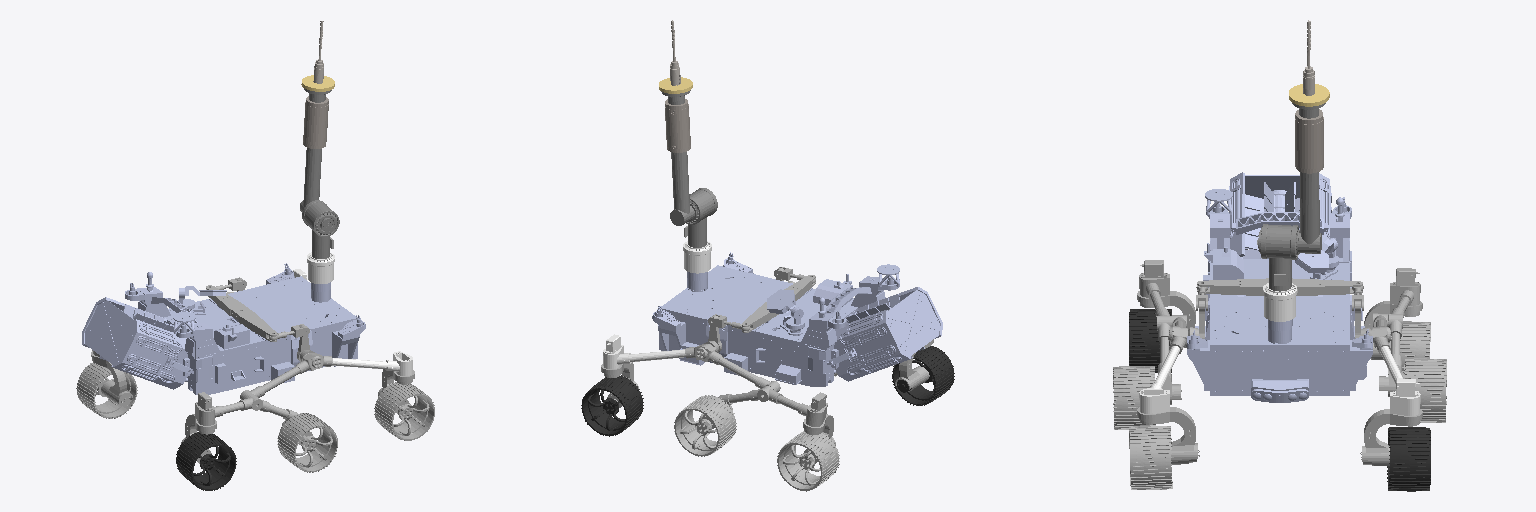
--- What the picture shows (computed from the rendered views, not written in the file) ---
Views: 3 orthographic renders of the robot side by side, from view 1: azimuth 30°, elevation 25°; view 2: azimuth 150°, elevation 25°; view 3: azimuth 270°, elevation 25°.
Model mars_rover_v8 with 40 links and 39 joints (10 revolute, 8 continuous, 1 prismatic, 20 fixed), rooted at dummy_link, posed every joint at zero.
Visible links, largest first — view 1: Rover_body, Right_front_wheel, Rear_middle_wheel, Right_rear_wheel, Left_rear_wheel, Arm_link1, Rocker_bogie, Arm_link3, RBR_rear, RBR_front_link, Arm_link2, Left_rear_wheel_shaft (+1 smaller); view 2: Rover_body, Left_middle_wheel, Front_left_wheel, Left_rear_wheel, Right_rear_wheel, Arm_link2, Arm_link1, Arm_link3, RBL_rear, Left_front_link, Rocker_bogie, Arm_base2 (+2 smaller); view 3: Rover_body, Front_left_wheel, Right_front_wheel, Rocker_bogie, Left_middle_wheel, Rear_middle_wheel, Arm_link1, Right_rear_wheel, Arm_link2, Arm_link3, RBR_rear, RBL_rear (+9 smaller).
Link boxes in pixels (left/top/right/bottom): Rover_body: left=82, top=263, right=365, bottom=394; Right_front_wheel: left=374, top=382, right=434, bottom=440; Rear_middle_wheel: left=277, top=413, right=337, bottom=472; Right_rear_wheel: left=176, top=432, right=236, bottom=490; Left_rear_wheel: left=76, top=362, right=137, bottom=418; Arm_link1: left=302, top=200, right=339, bottom=258; Rocker_bogie: left=206, top=284, right=294, bottom=341; Arm_link3: left=303, top=96, right=328, bottom=148; RBR_rear: left=195, top=392, right=312, bottom=444; RBR_front_link: left=332, top=351, right=412, bottom=375; Arm_link2: left=300, top=148, right=321, bottom=212; Left_rear_wheel_shaft: left=91, top=351, right=132, bottom=406; Rover_body: left=652, top=252, right=942, bottom=386; Left_middle_wheel: left=674, top=395, right=736, bottom=456; Front_left_wheel: left=581, top=375, right=643, bottom=436; Left_rear_wheel: left=777, top=431, right=839, bottom=491; Right_rear_wheel: left=892, top=346, right=954, bottom=405; Arm_link2: left=670, top=152, right=694, bottom=225; Arm_link1: left=686, top=188, right=717, bottom=247; Arm_link3: left=665, top=99, right=690, bottom=152; RBL_rear: left=702, top=392, right=827, bottom=428; Left_front_link: left=603, top=334, right=690, bottom=368; Rocker_bogie: left=724, top=274, right=815, bottom=332; Arm_base2: left=683, top=241, right=711, bottom=273; Rover_body: left=1187, top=172, right=1372, bottom=402; Front_left_wheel: left=1387, top=427, right=1430, bottom=491; Right_front_wheel: left=1129, top=426, right=1172, bottom=489; Rocker_bogie: left=1196, top=278, right=1363, bottom=295; Left_middle_wheel: left=1404, top=358, right=1446, bottom=422; Rear_middle_wheel: left=1113, top=366, right=1155, bottom=429; Arm_link1: left=1257, top=224, right=1299, bottom=291; Right_rear_wheel: left=1129, top=309, right=1171, bottom=372; Arm_link2: left=1298, top=172, right=1321, bottom=253; Arm_link3: left=1295, top=109, right=1323, bottom=173; RBR_rear: left=1139, top=260, right=1181, bottom=404; RBL_rear: left=1379, top=268, right=1420, bottom=396.
Bounding box of the posed robot: 0.8124 × 0.6922 × 1.06 m (x, y, z).
38 mesh visuals loaded from 38 distinct referenced files (38 binary STL).

robot.urdf — mars_rover_v8:
<?xml version="1.0" encoding="utf-8"?>
<!-- This URDF was automatically created by SolidWorks to URDF Exporter! Originally created by Stephen Brawner ([email redacted]) 
     Commit Version: 1.6.0-4-g7f85cfe  Build Version: 1.6.7995.38578
     For more information, please see http://wiki.ros.org/sw_urdf_exporter -->
<robot
  name="mars_rover_v8">
  <link
    name="dummy_link">
  </link>
    <joint name="dummy_joint" type="fixed">
      <parent link="dummy_link"/>
      <child link="Rover_body"/>
      <origin xyz="0 0 0" rpy="0 0 0" />
      <axis
      xyz="0 0 0" />
    </joint>
    
  <link
    name="Rover_body">
    <inertial>
      <origin
        xyz="0 0 -0.90"
        rpy="0 0 0" />
      <mass
        value="5.05463116322645" />
      <inertia
        ixx="0.00919072374274727"
        ixy="9.21619169351263E-06"
        ixz="0.000742948997031083"
        iyy="0.0124092523200571"
        iyz="6.063504394883E-05"
        izz="0.0118258433412729" />
    </inertial>
    <visual>
      <origin
        xyz="0 0 0"
        rpy="0 0 0" />
      <geometry>
        <mesh
          filename="package://mars_rover_v8/meshes/Rover_body.STL" />
      </geometry>
      <material
        name="">
        <color
          rgba="0.792156862745098 0.819607843137255 0.933333333333333 1" />
      </material>
    </visual>
    <collision>
      <origin
        xyz="0 0 0"
        rpy="0 0 0" />
      <geometry>
        <mesh
          filename="package://mars_rover_v8/meshes/Rover_body.STL" />
      </geometry>
    </collision>
  </link>
  <link
    name="Rocker_bogie">
    <inertial>
      <origin
        xyz="-0.00183062327350716 -7.69444459586266E-06 -0.00980214891887629"
        rpy="0 0 0" />
      <mass
        value="0.222835377250285" />
      <inertia
        ixx="0.000360928093195999"
        ixy="-1.12175361239904E-08"
        ixz="-1.21543020229572E-08"
        iyy="3.37038043417026E-05"
        iyz="5.2718041267806E-09"
        izz="0.000380480874024538" />
    </inertial>
    <visual>
      <origin
        xyz="0 0 0"
        rpy="0 0 0" />
      <geometry>
        <mesh
          filename="package://mars_rover_v8/meshes/Rocker_bogie.STL" />
      </geometry>
      <material
        name="">
        <color
          rgba="0.752941176470588 0.752941176470588 0.752941176470588 1" />
      </material>
    </visual>
    <collision>
      <origin
        xyz="0 0 0"
        rpy="0 0 0" />
      <geometry>
        <mesh
          filename="package://mars_rover_v8/meshes/Rocker_bogie.STL" />
      </geometry>
    </collision>
  </link>
  <joint
    name="Rocker_bogie_joint"
    type="fixed">
    <origin
      xyz="0 0 0.321745694454397"
      rpy="0 0 3.13719265835774" />
    <parent
      link="Rover_body" />
    <child
      link="Rocker_bogie" />
    <axis
      xyz="-0.00421056605326748 -0.0042462882407935 -0.999982119924995" />
    <limit
      lower="0"
      upper="0"
      effort="0"
      velocity="0" />
  </joint>
  <link
    name="RBL_connector">
    <inertial>
      <origin
        xyz="0.00273012533204613 0.051254859123566 -8.18345316958569E-05"
        rpy="0 0 0" />
      <mass
        value="0.070232461995793" />
      <inertia
        ixx="4.3726135656864E-05"
        ixy="-1.80770334367043E-07"
        ixz="7.29077461067858E-08"
        iyy="2.25741236050298E-05"
        iyz="7.41315304509806E-06"
        izz="3.25567515859379E-05" />
    </inertial>
    <visual>
      <origin
        xyz="0 0 0"
        rpy="0 0 0" />
      <geometry>
        <mesh
          filename="package://mars_rover_v8/meshes/RBL_connector.STL" />
      </geometry>
      <material
        name="">
        <color
          rgba="0.752941176470588 0.752941176470588 0.752941176470588 1" />
      </material>
    </visual>
    <collision>
      <origin
        xyz="0 0 0"
        rpy="0 0 0" />
      <geometry>
        <mesh
          filename="package://mars_rover_v8/meshes/RBL_connector.STL" />
      </geometry>
    </collision>
  </link>
  <joint
    name="RBL_connector_joint"
    type="fixed">
    <origin
      xyz="-0.0899648316067737 -0.173480451030132 -0.0104717645625004"
      rpy="-1.5707963267949 0 0.00422849637243022" />
    <parent
      link="Rocker_bogie" />
    <child
      link="RBL_connector" />
    <axis
      xyz="0 0 0" />
    <limit
      lower="0"
      upper="0"
      effort="0"
      velocity="0" />
    <dynamics damping="0.0" friction="0.0"/>

  </joint>
  <link
    name="Main_RBL_shaft">
    <inertial>
      <origin
        xyz="0.0078042426420091 0.00361719524194832 -0.0178113948108033"
        rpy="0 0 0" />
      <mass
        value="0.0491872656663331" />
      <inertia
        ixx="1.29488130430966E-05"
        ixy="3.61515022785671E-06"
        ixz="-5.30362861188594E-06"
        iyy="2.524162119039E-05"
        iyz="1.78408297953142E-06"
        izz="2.49334638894304E-05" />
    </inertial>
    <visual>
      <origin
        xyz="0 0 0"
        rpy="0 0 0" />
      <geometry>
        <mesh
          filename="package://mars_rover_v8/meshes/Main_RBL_shaft.STL" />
      </geometry>
      <material
        name="">
        <color
          rgba="0.752941176470588 0.752941176470588 0.752941176470588 1" />
      </material>
    </visual>
    <collision>
      <origin
        xyz="0 0 0"
        rpy="0 0 0" />
      <geometry>
        <mesh
          filename="package://mars_rover_v8/meshes/Main_RBL_shaft.STL" />
      </geometry>
    </collision>
  </link>
  <joint
    name="Main_RBL_shaft_joint"
    type="revolute">
    <origin
      xyz="0.000631495837738971 0.06427021565357 -0.0564721133745778"
      rpy="-2.98277640343485 -0.284969295585532 2.83906445659194" />
    <parent
      link="RBL_connector" />
    <child
      link="Main_RBL_shaft" />
    <axis
      xyz="0.331170055115093 0.0444834262870377 -0.942521946365617" />
    <limit
      lower="-0.5"
      upper="0.5"
      effort="10"
      velocity="100" />
    <dynamics damping="1.0" friction="1.0"/>

  </joint>
  <link
    name="RBL_middle">
    <inertial>
      <origin
        xyz="-0.125359927941052 0.0848748247362183 -0.0734828208580134"
        rpy="0 0 0" />
      <mass
        value="0.033279888024897" />
      <inertia
        ixx="1.30948542082596E-05"
        ixy="9.76134365773125E-06"
        ixz="-6.29292322879668E-06"
        iyy="2.20361929304674E-05"
        iyz="4.03565033308475E-06"
        izz="2.61402496675802E-05" />
    </inertial>
    <visual>
      <origin
        xyz="0 0 0"
        rpy="0 0 0" />
      <geometry>
        <mesh
          filename="package://mars_rover_v8/meshes/RBL_middle.STL" />
      </geometry>
      <material
        name="">
        <color
          rgba="0.752941176470588 0.752941176470588 0.752941176470588 1" />
      </material>
    </visual>
    <collision>
      <origin
        xyz="0 0 0"
        rpy="0 0 0" />
      <geometry>
        <mesh
          filename="package://mars_rover_v8/meshes/RBL_middle.STL" />
      </geometry>
    </collision>
  </link>
  <joint
    name="RBL_middle_joint"
    type="fixed">
    <origin
      xyz="0 0 0"
      rpy="0 0 0" />
    <parent
      link="Main_RBL_shaft" />
    <child
      link="RBL_middle" />
    <axis
      xyz="0 0 0" />
  </joint>
  <link
    name="RBL_sub">
    <inertial>
      <origin
        xyz="0.000829595906266911 0.00229485076186861 -0.0146534396629263"
        rpy="0 0 0" />
      <mass
        value="0.0384144996450757" />
      <inertia
        ixx="5.75044699429699E-06"
        ixy="3.1860938525737E-07"
        ixz="-7.31290112807747E-07"
        iyy="1.61734907438067E-05"
        iyz="-3.55938893525851E-08"
        izz="1.63701204434969E-05" />
    </inertial>
    <visual>
      <origin
        xyz="0 0 0"
        rpy="0 0 0" />
      <geometry>
        <mesh
          filename="package://mars_rover_v8/meshes/RBL_sub.STL" />
      </geometry>
      <material
        name="">
        <color
          rgba="0.752941176470588 0.752941176470588 0.752941176470588 1" />
      </material>
    </visual>
    <collision>
      <origin
        xyz="0 0 0"
        rpy="0 0 0" />
      <geometry>
        <mesh
          filename="package://mars_rover_v8/meshes/RBL_sub.STL" />
      </geometry>
    </collision>
  </link>
  <joint
    name="RBL_sub_joint"
    type="revolute">
    <origin
      xyz="-0.165228843532702 0.110053086792123 -0.0403563616500445"
      rpy="-0.141384243529562 -0.19020881267445 -0.0998429541958625" />
    <parent
      link="RBL_middle" />
    <child
      link="RBL_sub" />
    <axis
      xyz="0.107516177735359 0 -0.994203335100611" />
    <limit
      lower="-0.5"
      upper="0.5"
      effort="10"
      velocity="100" />
    <dynamics damping="1.0" friction="1.0"/>
  </joint>
  <link
    name="RBL_rear">
    <inertial>
      <origin
        xyz="-0.0345314743918841 0.0342554022657289 -0.00245860386260088"
        rpy="0 0 0" />
      <mass
        value="0.172119977743607" />
      <inertia
        ixx="8.94538481514293E-05"
        ixy="-4.65295237181543E-06"
        ixz="-2.96847292194131E-06"
        iyy="9.87966505115758E-05"
        iyz="-9.92270152291458E-06"
        izz="7.89446484933328E-05" />
    </inertial>
    <visual>
      <origin
        xyz="0 0 0"
        rpy="0 0 0" />
      <geometry>
        <mesh
          filename="package://mars_rover_v8/meshes/RBL_rear.STL" />
      </geometry>
      <material
        name="">
        <color
          rgba="0.752941176470588 0.752941176470588 0.752941176470588 1" />
      </material>
    </visual>
    <collision>
      <origin
        xyz="0 0 0"
        rpy="0 0 0" />
      <geometry>
        <mesh
          filename="package://mars_rover_v8/meshes/RBL_rear.STL" />
      </geometry>
    </collision>
  </link>
  <joint
    name="RBL_rear_joint"
    type="fixed">
    <origin
      xyz="0 0 0"
      rpy="0 0 0" />
    <parent
      link="RBL_sub" />
    <child
      link="RBL_rear" />
    <axis
      xyz="0 0 0" />
  </joint>
  <link
    name="Left_rear_wheel_shaft">
    <inertial>
      <origin
        xyz="0.0437952760701534 0.00512357289175613 0.0446637087872099"
        rpy="0 0 0" />
      <mass
        value="0.232916021206215" />
      <inertia
        ixx="7.11736613895528E-05"
        ixy="-1.39358357582043E-05"
        ixz="5.68457382014426E-06"
        iyy="0.000197577237836181"
        iyz="-1.57927192737246E-06"
        izz="0.00017873090091453" />
    </inertial>
    <visual>
      <origin
        xyz="0 0 0"
        rpy="0 0 0" />
      <geometry>
        <mesh
          filename="package://mars_rover_v8/meshes/Left_rear_wheel_shaft.STL" />
      </geometry>
      <material
        name="">
        <color
          rgba="0.752941176470588 0.752941176470588 0.752941176470588 1" />
      </material>
    </visual>
    <collision>
      <origin
        xyz="0 0 0"
        rpy="0 0 0" />
      <geometry>
        <mesh
          filename="package://mars_rover_v8/meshes/Left_rear_wheel_shaft.STL" />
      </geometry>
    </collision>
  </link>
  <joint
    name="Left_rear_wheel_shaft_joint"
    type="revolute">
    <origin
      xyz="-0.112959679328628 0.160160817370863 0.00243708982821339"
      rpy="-2.85755335150211 1.53424034262611 1.52440909514195" />
    <parent
      link="RBL_rear" />
    <child
      link="Left_rear_wheel_shaft" />
    <axis
      xyz="-0.00154474032954976 0.000395300951298722 0.999998728756428" />
    <limit
      lower="-3.14"
      upper="3.14"
      effort="10"
      velocity="100" />
    <dynamics damping="1.0" friction="1.0"/>
  </joint>
  <link
    name="Left_rear_wheel_link">
    <inertial>
      <origin
        xyz="-0.00584958116844816 0.000388674749067369 -0.0129205752485559"
        rpy="0 0 0" />
      <mass
        value="0.0072539802205253" />
      <inertia
        ixx="5.90602559393169E-07"
        ixy="-2.10411835375521E-09"
        ixz="1.34162351668438E-07"
        iyy="5.59694857906414E-07"
        iyz="1.94505089294954E-09"
        izz="8.28822298314107E-07" />
    </inertial>
    <visual>
      <origin
        xyz="0 0 0"
        rpy="0 0 0" />
      <geometry>
        <mesh
          filename="package://mars_rover_v8/meshes/Left_rear_wheel_link.STL" />
      </geometry>
      <material
        name="">
        <color
          rgba="0.752941176470588 0.752941176470588 0.752941176470588 1" />
      </material>
    </visual>
    <collision>
      <origin
        xyz="0 0 0"
        rpy="0 0 0" />
      <geometry>
        <mesh
          filename="package://mars_rover_v8/meshes/Left_rear_wheel_link.STL" />
      </geometry>
    </collision>
  </link>
  <joint
    name="Left_rear_wheel_link_joint"
    type="continuous">
    <origin
      xyz="-0.0144096961014676 -0.00161649569607947 0.000326244371409559"
      rpy="-1.54371094057743 0.0601484877717451 2.10950882986517" />
    <parent
      link="Left_rear_wheel_shaft" />
    <child
      link="Left_rear_wheel_link" />
    <axis
      xyz="-0.410145106605342 0 -0.912020280217328" />
    <dynamics damping="1.0" friction="1.0"/>
  </joint>
  <link
    name="Left_rear_wheel">
    <inertial>
      <origin
        xyz="-0.0044781509496655 6.42513947601842E-09 -0.0099578607927876"
        rpy="0 0 0" />
      <mass
        value="0.235972094522633" />
      <inertia
        ixx="0.000574232045032266"
        ixy="3.37018139429297E-11"
        ixz="0.00011407177042807"
        iyy="0.000522932805641486"
        iyz="-8.42279815094519E-13"
        izz="0.000776588731773815" />
    </inertial>
    <visual>
      <origin
        xyz="0 0 0"
        rpy="0 0 0" />
      <geometry>
        <mesh
          filename="package://mars_rover_v8/meshes/Left_rear_wheel.STL" />
      </geometry>
      <material
        name="">
        <color
          rgba="0.752941176470588 0.752941176470588 0.752941176470588 1" />
      </material>
    </visual>
    <collision>
      <origin
        xyz="0 0 0"
        rpy="0 0 0" />
      <geometry>
        <mesh
          filename="package://mars_rover_v8/meshes/Left_rear_wheel.STL" />
      </geometry>
    </collision>
  </link>
  <joint
    name="Left_rear_wheel_joint"
    type="fixed">
    <origin
      xyz="0 0 0"
      rpy="0 0 0" />
    <parent
      link="Left_rear_wheel_link" />
    <child
      link="Left_rear_wheel" />
    <axis
      xyz="-0.411509138509028 0.0928949855933232 -0.906659114869075" />
  </joint>
  <link
    name="Left_middle_wheel_link">
    <inertial>
      <origin
        xyz="0.00347256235109557 2.59484676610466E-05 -0.0137568371943125"
        rpy="0 0 0" />
      <mass
        value="0.00725398032542629" />
      <inertia
        ixx="5.75079363468744E-07"
        ixy="1.92171893951468E-09"
        ixz="-6.92492627407769E-08"
        iyy="5.30189025822424E-07"
        iyz="4.91762571385802E-10"
        izz="8.73851342263137E-07" />
    </inertial>
    <visual>
      <origin
        xyz="0 0 0"
        rpy="0 0 0" />
      <geometry>
        <mesh
          filename="package://mars_rover_v8/meshes/Left_middle_wheel_link.STL" />
      </geometry>
      <material
        name="">
        <color
          rgba="0.752941176470588 0.752941176470588 0.752941176470588 1" />
      </material>
    </visual>
    <collision>
      <origin
        xyz="0 0 0"
        rpy="0 0 0" />
      <geometry>
        <mesh
          filename="package://mars_rover_v8/meshes/Left_middle_wheel_link.STL" />
      </geometry>
    </collision>
  </link>
  <joint
    name="Left_middle_wheel_link_joint"
    type="continuous">
    <origin
      xyz="0.143199801783518 0.0680598690493687 0.078853381971787"
      rpy="-0.110387706400515 0.220285443130636 1.5631659884914" />
    <parent
      link="RBL_rear" />
    <child
      link="Left_middle_wheel_link" />
    <axis
      xyz="0.218042111265835 0 -0.975939361699659" />
      <dynamics damping="1.0" friction="1.0"/>
  </joint>
  <link
    name="Left_middle_wheel">
    <inertial>
      <origin
        xyz="0.00261044670814156 4.15893847138804E-10 -0.0116841545180436"
        rpy="0 0 0" />
      <mass
        value="0.235972141070155" />
      <inertia
        ixx="0.000537431116155082"
        ixy="3.72109002546575E-12"
        ixz="-6.48932245240862E-05"
        iyy="0.000522932822144623"
        iyz="-1.67509429399327E-11"
        izz="0.000813389793857983" />
    </inertial>
    <visual>
      <origin
        xyz="0 0 0"
        rpy="0 0 0" />
      <geometry>
        <mesh
          filename="package://mars_rover_v8/meshes/Left_middle_wheel.STL" />
      </geometry>
      <material
        name="">
        <color
          rgba="0.752941176470588 0.752941176470588 0.752941176470588 1" />
      </material>
    </visual>
    <collision>
      <origin
        xyz="0 0 0"
        rpy="0 0 0" />
      <geometry>
        <mesh
          filename="package://mars_rover_v8/meshes/Left_middle_wheel.STL" />
      </geometry>
    </collision>
  </link>
  <joint
    name="Left_middle_wheel_joint"
    type="fixed">
    <origin
      xyz="0 0 0"
      rpy="0 0 0" />
    <parent
      link="Left_middle_wheel_link" />
    <child
      link="Left_middle_wheel" />
    <axis
      xyz="0.103888489960283 0.0205488022924037 -0.994376653174299" />
  </joint>
  <link
    name="Left_front_link">
    <inertial>
      <origin
        xyz="-0.00175656140653693 -0.140329784543421 -0.0262448368641963"
        rpy="0 0 0" />
      <mass
        value="0.107547820775352" />
      <inertia
        ixx="4.63905279506279E-05"
        ixy="-9.07830832911906E-06"
        ixz="-1.2589659345672E-05"
        iyy="7.51764610312687E-05"
        iyz="-3.74027287491525E-06"
        izz="5.97872272644151E-05" />
    </inertial>
    <visual>
      <origin
        xyz="0 0 0"
        rpy="0 0 0" />
      <geometry>
        <mesh
          filename="package://mars_rover_v8/meshes/Left_front_link.STL" />
      </geometry>
      <material
        name="">
        <color
          rgba="1 1 1 1" />
      </material>
    </visual>
    <collision>
      <origin
        xyz="0 0 0"
        rpy="0 0 0" />
      <geometry>
        <mesh
          filename="package://mars_rover_v8/meshes/Left_front_link.STL" />
      </geometry>
    </collision>
  </link>
  <joint
    name="Left_front_link_joint"
    type="fixed">
    <origin
      xyz="0.246564697808601 0.121557473831028 0.108252293859328"
      rpy="-0.0688820578620627 -0.143142944769509 -0.332117286257748" />
    <parent
      link="Main_RBL_shaft" />
    <child
      link="Left_front_link" />
    <axis
      xyz="0 0 0" />
  </joint>
  <link
    name="Left_front_wheel_shaft">
    <inertial>
      <origin
        xyz="-0.0228698033510061 0.0377008290779833 0.0442779799270307"
        rpy="0 0 0" />
      <mass
        value="0.232915997961362" />
      <inertia
        ixx="0.000165888065732098"
        ixy="5.65299105096904E-05"
        ixz="-8.91170916333238E-07"
        iyy="0.000102862867764715"
        iyz="5.83217709031911E-06"
        izz="0.000178730942674499" />
    </inertial>
    <visual>
      <origin
        xyz="0 0 0"
        rpy="0 0 0" />
      <geometry>
        <mesh
          filename="package://mars_rover_v8/meshes/Left_front_wheel_shaft.STL" />
      </geometry>
      <material
        name="">
        <color
          rgba="0.752941176470588 0.752941176470588 0.752941176470588 1" />
      </material>
    </visual>
    <collision>
      <origin
        xyz="0 0 0"
        rpy="0 0 0" />
      <geometry>
        <mesh
          filename="package://mars_rover_v8/meshes/Left_front_wheel_shaft.STL" />
      </geometry>
    </collision>
  </link>
  <joint
    name="Left_front_wheel_shaft_joint"
    type="revolute">
    <origin
      xyz="0.00262204423983718 -7.83655325365673E-05 -0.0142645567161963"
      rpy="-1.55827009941622 -0.334299120727183 -3.0884470200334" />
    <parent
      link="Left_front_link" />
    <child
      link="Left_front_wheel_shaft" />
    <axis
      xyz="-0.0551965244056398 0.0996079738083047 -0.993494637754699" />
    <limit
      lower="-3.14"
      upper="3.14"
      effort="10"
      velocity="100" />
      <dynamics damping="1.0" friction="1.0"/>
  </joint>
  <link
    name="Left_front_wheel_link">
    <inertial>
      <origin
        xyz="0.00250079430203548 -9.25893665885413E-05 -0.0139659366798912"
        rpy="0 0 0" />
      <mass
        value="0.00725398030529702" />
      <inertia
        ixx="5.72181989662649E-07"
        ixy="6.78890349983421E-09"
        ixz="-6.64271726213597E-08"
        iyy="5.31738863111652E-07"
        iyz="1.18216696117883E-09"
        izz="8.75198875704422E-07" />
    </inertial>
    <visual>
      <origin
        xyz="0 0 0"
        rpy="0 0 0" />
      <geometry>
        <mesh
          filename="package://mars_rover_v8/meshes/Left_front_wheel_link.STL" />
      </geometry>
      <material
        name="">
        <color
          rgba="0.752941176470588 0.752941176470588 0.752941176470588 1" />
      </material>
    </visual>
    <collision>
      <origin
        xyz="0 0 0"
        rpy="0 0 0" />
      <geometry>
        <mesh
          filename="package://mars_rover_v8/meshes/Left_front_wheel_link.STL" />
      </geometry>
    </collision>
  </link>
  <joint
    name="Left_front_wheel_link_joint"
    type="continuous">
    <origin
      xyz="0.00714976306738319 -0.0126188821024417 -5.94813154971563E-05"
      rpy="-1.55894415844467 -0.0572517577783187 -2.80794743393094" />
    <parent
      link="Left_front_wheel_shaft" />
    <child
      link="Left_front_wheel_link" />
    <axis
      xyz="-0.202503045698744 0 0.979281632873165" />
      <dynamics damping="1.0" friction="1.0"/>
  </joint>
  <link
    name="Front_left_wheel">
    <inertial>
      <origin
        xyz="0.00221101511168999 1.71860795039613E-09 -0.0106922512814903"
        rpy="0 0 0" />
      <mass
        value="0.235972098049911" />
      <inertia
        ixx="0.00053543825652921"
        ixy="-2.7072559146725E-11"
        ixz="-6.04748986525555E-05"
        iyy="0.000522932761528528"
        iyz="2.27456544801512E-11"
        izz="0.000815382576606525" />
    </inertial>
    <visual>
      <origin
        xyz="0 0 0"
        rpy="0 0 0" />
      <geometry>
        <mesh
          filename="package://mars_rover_v8/meshes/Front_left_wheel.STL" />
      </geometry>
      <material
        name="">
        <color
          rgba="0.250980392156863 0.250980392156863 0.250980392156863 1" />
      </material>
    </visual>
    <collision>
      <origin
        xyz="0 0 0"
        rpy="0 0 0" />
      <geometry>
        <mesh
          filename="package://mars_rover_v8/meshes/Front_left_wheel.STL" />
      </geometry>
    </collision>
  </link>
  <joint
    name="Front_left_wheel_joint"
    type="continuous">
    <origin
      xyz="0 0 0"
      rpy="0 0 0" />
    <parent
      link="Left_front_wheel_link" />
    <child
      link="Front_left_wheel" />
    <axis
      xyz="-0.202503045698744 0 0.979281632873165" />
      <dynamics damping="1.0" friction="1.0"/>
  </joint>
  <link
    name="RBR_connector">
    <inertial>
      <origin
        xyz="-0.00171976347874956 -0.0512548409233914 8.18345303948004E-05"
        rpy="0 0 0" />
      <mass
        value="0.070232461992048" />
      <inertia
        ixx="4.37261206301782E-05"
        ixy="2.51057638927394E-07"
        ixz="-7.31659856716201E-08"
        iyy="2.2574138627714E-05"
        iyz="7.41315049867749E-06"
        izz="3.25567515865713E-05" />
    </inertial>
    <visual>
      <origin
        xyz="0 0 0"
        rpy="0 0 0" />
      <geometry>
        <mesh
          filename="package://mars_rover_v8/meshes/RBR_connector.STL" />
      </geometry>
      <material
        name="">
        <color
          rgba="0.752941176470588 0.752941176470588 0.752941176470588 1" />
      </material>
    </visual>
    <collision>
      <origin
        xyz="0 0 0"
        rpy="0 0 0" />
      <geometry>
        <mesh
          filename="package://mars_rover_v8/meshes/RBR_connector.STL" />
      </geometry>
    </collision>
  </link>
  <joint
    name="RBR_connector_joint"
    type="fixed">
    <origin
      xyz="-0.0900310861478853 0.172719334408548 -0.0104717889049047"
      rpy="1.5707963267949 0 -3.13736415721736" />
    <parent
      link="Rocker_bogie" />
    <child
      link="RBR_connector" />
    <axis
      xyz="-1 0 0" />
    <limit
      lower="0"
      upper="0"
      effort="0"
      velocity="0" />
  </joint>
  <link
    name="Main_RBR_shaft">
    <inertial>
      <origin
        xyz="0.000786645565822523 -0.00390746187210316 -0.0193738562098772"
        rpy="0 0 0" />
      <mass
        value="0.0491870864909299" />
      <inertia
        ixx="9.92346891837181E-06"
        ixy="-3.32251696613761E-07"
        ixz="-6.75024917812992E-07"
        iyy="2.62769949628881E-05"
        iyz="-3.82707267467082E-07"
        izz="2.69230979903657E-05" />
    </inertial>
    <visual>
      <origin
        xyz="0 0 0"
        rpy="0 0 0" />
      <geometry>
        <mesh
          filename="package://mars_rover_v8/meshes/Main_RBR_shaft.STL" />
      </geometry>
      <material
        name="">
        <color
          rgba="0.752941176470588 0.752941176470588 0.752941176470588 1" />
      </material>
    </visual>
    <collision>
      <origin
        xyz="0 0 0"
        rpy="0 0 0" />
      <geometry>
        <mesh
          filename="package://mars_rover_v8/meshes/Main_RBR_shaft.STL" />
      </geometry>
    </collision>
  </link>
  <joint
    name="Main_RBR_shaft_joint"
    type="revolute">
    <origin
      xyz="0.000633734589216381 -0.0642701936174142 0.0564721133745718"
      rpy="-0.157071933469012 -0.00156166850799278 0" />
    <parent
      link="RBR_connector" />
    <child
      link="Main_RBR_shaft" />
    <axis
      xyz="0.000457717093941799 -0.0458478796768476 -0.998948328205318" />
    <limit
      lower="-0.5"
      upper="0.5"
      effort="10"
      velocity="100" />
      <dynamics damping="1.0" friction="1.0"/>
  </joint>
  <link
    name="RBR_middle">
    <inertial>
      <origin
        xyz="-0.158154054003957 -0.0494378401826055 -0.0293556832533867"
        rpy="0 0 0" />
      <mass
        value="0.0332798793987496" />
      <inertia
        ixx="6.46145810937674E-06"
        ixy="-6.81461547453227E-06"
        ixz="-1.16241480351458E-06"
        iyy="2.61876152303456E-05"
        iyz="-4.30336319354038E-07"
        izz="2.86222240632676E-05" />
    </inertial>
    <visual>
      <origin
        xyz="0 0 0"
        rpy="0 0 0" />
      <geometry>
        <mesh
          filename="package://mars_rover_v8/meshes/RBR_middle.STL" />
      </geometry>
      <material
        name="">
        <color
          rgba="0.752941176470588 0.752941176470588 0.752941176470588 1" />
      </material>
    </visual>
    <collision>
      <origin
        xyz="0 0 0"
        rpy="0 0 0" />
      <geometry>
        <mesh
          filename="package://mars_rover_v8/meshes/RBR_middle.STL" />
      </geometry>
    </collision>
  </link>
  <joint
    name="RBR_middle_joint"
    type="fixed">
    <origin
      xyz="0 0 0"
      rpy="0 0 0" />
    <parent
      link="Main_RBR_shaft" />
    <child
      link="RBR_middle" />
    <axis
      xyz="0 0 0" />
  </joint>
  <link
    name="RBR_sub">
    <inertial>
      <origin
        xyz="-0.00146325307394751 -0.0019204561060132 -0.0146578252316874"
        rpy="0 0 0" />
      <mass
        value="0.0384144024848232" />
      <inertia
        ixx="6.65259541744945E-06"
        ixy="3.00129204254346E-06"
        ixz="4.20442579071414E-07"
        iyy="1.52376827029145E-05"
        iyz="-7.2587115245942E-08"
        izz="1.6403442466156E-05" />
    </inertial>
    <visual>
      <origin
        xyz="0 0 0"
        rpy="0 0 0" />
      <geometry>
        <mesh
          filename="package://mars_rover_v8/meshes/RBR_sub.STL" />
      </geometry>
      <material
        name="">
        <color
          rgba="0.752941176470588 0.752941176470588 0.752941176470588 1" />
      </material>
    </visual>
    <collision>
      <origin
        xyz="0 0 0"
        rpy="0 0 0" />
      <geometry>
        <mesh
          filename="package://mars_rover_v8/meshes/RBR_sub.STL" />
      </geometry>
    </collision>
  </link>
  <joint
    name="RBR_sub_joint"
    type="revolute">
    <origin
      xyz="-0.190393496940149 -0.0676145078429574 0.0148149662588535"
      rpy="0.174524609695767 0.00171243177333767 0.00027120930134448" />
    <parent
      link="RBR_middle" />
    <child
      link="RBR_sub" />
    <axis
      xyz="0 0 -1" />
    <limit
      lower="-0.5"
      upper="0.5"
      effort="10"
      velocity="100" />
      <dynamics damping="1.0" friction="1.0"/>
  </joint>
  <link
    name="RBR_rear">
    <inertial>
      <origin
        xyz="-0.043934250888635 -0.0209782126581387 0.00126848328862761"
        rpy="0 0 0" />
      <mass
        value="0.172119885261173" />
      <inertia
        ixx="9.3324134405557E-05"
        ixy="7.59793098559351E-06"
        ixz="-7.21006336890522E-07"
        iyy="9.41705230047497E-05"
        iyz="1.01671212396701E-05"
        izz="7.97009711834079E-05" />
    </inertial>
    <visual>
      <origin
        xyz="0 0 0"
        rpy="0 0 0" />
      <geometry>
        <mesh
          filename="package://mars_rover_v8/meshes/RBR_rear.STL" />
      </geometry>
      <material
        name="">
        <color
          rgba="0.752941176470588 0.752941176470588 0.752941176470588 1" />
      </material>
    </visual>
    <collision>
      <origin
        xyz="0 0 0"
        rpy="0 0 0" />
      <geometry>
        <mesh
          filename="package://mars_rover_v8/meshes/RBR_rear.STL" />
      </geometry>
    </collision>
  </link>
  <joint
    name="RBR_rear_joint"
    type="fixed">
    <origin
      xyz="0 0 0"
      rpy="0 0 0" />
    <parent
      link="RBR_sub" />
    <child
      link="RBR_rear" />
    <axis
      xyz="0 0 0" />
  </joint>
  <link
    name="Right_rear_wheel_shaft">
    <inertial>
      <origin
        xyz="0.00704810351248669 0.0383856901852086 -0.0245611021158271"
        rpy="0 0 0" />
      <mass
        value="0.147555875096122" />
      <inertia
        ixx="0.000171589714854059"
        ixy="-2.22150838100691E-05"
        ixz="3.19923664926742E-06"
        iyy="5.96147654256339E-05"
        iyz="5.11619059142302E-06"
        izz="0.000155516697744986" />
    </inertial>
    <visual>
      <origin
        xyz="0 0 0"
        rpy="0 0 0" />
      <geometry>
        <mesh
          filename="package://mars_rover_v8/meshes/Right_rear_wheel_shaft.STL" />
      </geometry>
      <material
        name="">
        <color
          rgba="0.752941176470588 0.752941176470588 0.752941176470588 1" />
      </material>
    </visual>
    <collision>
      <origin
        xyz="0 0 0"
        rpy="0 0 0" />
      <geometry>
        <mesh
          filename="package://mars_rover_v8/meshes/Right_rear_wheel_shaft.STL" />
      </geometry>
    </collision>
  </link>
  <joint
    name="Right_rear_wheel_shaft_joint"
    type="revolute">
    <origin
      xyz="-0.158154681536852 -0.0235464270933015 0.0147039514526838"
      rpy="-1.5707963267949 0.146942207377435 -0.00258338421159216" />
    <parent
      link="RBR_rear" />
    <child
      link="Right_rear_wheel_shaft" />
    <axis
      xyz="0.00223458810126399 -0.00192570665133971 0.99999564912549" />
    <limit
      lower="-3.14"
      upper="3.14"
      effort="10"
      velocity="100" />
      <dynamics damping="1.0" friction="1.0"/>
  </joint>
  <link
    name="Right_rear_wheel_link">
    <inertial>
      <origin
        xyz="-0.00621445495246031 0.000263189120590229 0.0127523022755622"
        rpy="0 0 0" />
      <mass
        value="0.00725398032542629" />
      <inertia
        ixx="6.06221775061693E-07"
        ixy="-1.32488444793784E-08"
        ixz="-1.30141778397147E-07"
        iyy="5.43646809808467E-07"
        iyz="-6.80620430445783E-09"
        izz="8.29251146684146E-07" />
    </inertial>
    <visual>
      <origin
        xyz="0 0 0"
        rpy="0 0 0" />
      <geometry>
        <mesh
          filename="package://mars_rover_v8/meshes/Right_rear_wheel_link.STL" />
      </geometry>
      <material
        name="">
        <color
          rgba="0.752941176470588 0.752941176470588 0.752941176470588 1" />
      </material>
    </visual>
    <collision>
      <origin
        xyz="0 0 0"
        rpy="0 0 0" />
      <geometry>
        <mesh
          filename="package://mars_rover_v8/meshes/Right_rear_wheel_link.STL" />
      </geometry>
    </collision>
  </link>
  <joint
    name="Right_rear_wheel_link_joint"
    type="continuous">
    <origin
      xyz="-0.00259410496842999 -0.0141284951008775 -0.0905524791148715"
      rpy="-1.54745473961956 -0.0504296874243997 -0.615312585882" />
    <parent
      link="Right_rear_wheel_shaft" />
    <child
      link="Right_rear_wheel_link" />
    <axis
      xyz="0.419717436335965 0 -0.907654820752672" />
      <dynamics damping="1.0" friction="1.0"/>
  </joint>
  <link
    name="Right_rear_wheel">
    <inertial>
      <origin
        xyz="-0.0108083722023711 -0.0018316832855642 0.0236162690495171"
        rpy="0 0 0" />
      <mass
        value="0.32133221581393" />
      <inertia
        ixx="0.00059833966268666"
        ixy="-5.83449461960612E-08"
        ixz="-0.000112762084010149"
        iyy="0.00054614713645612"
        iyz="1.32176559338226E-07"
        izz="0.000790027489395397" />
    </inertial>
    <visual>
      <origin
        xyz="0 0 0"
        rpy="0 0 0" />
      <geometry>
        <mesh
          filename="package://mars_rover_v8/meshes/Right_rear_wheel.STL" />
      </geometry>
      <material
        name="">
        <color
          rgba="0.250980392156863 0.250980392156863 0.250980392156863 1" />
      </material>
    </visual>
    <collision>
      <origin
        xyz="0 0 0"
        rpy="0 0 0" />
      <geometry>
        <mesh
          filename="package://mars_rover_v8/meshes/Right_rear_wheel.STL" />
      </geometry>
    </collision>
  </link>
  <joint
    name="Right_rear_wheel_joint"
    type="fixed">
    <origin
      xyz="0 0 0"
      rpy="0 0 0" />
    <parent
      link="Right_rear_wheel_link" />
    <child
      link="Right_rear_wheel" />
    <axis
      xyz="0.418717449752143 0.0241629946177998 -0.907795046783227" />
  </joint>
  <link
    name="Right_middle_wheel_link">
    <inertial>
      <origin
        xyz="-0.00551284862786541 0.00014834795610405 0.0130727359449669"
        rpy="0 0 0" />
      <mass
        value="0.00725398032542629" />
      <inertia
        ixx="6.12839289693629E-07"
        ixy="9.7174482405787E-09"
        ixz="-1.25727752871587E-07"
        iyy="5.34374382020666E-07"
        iyz="4.01094615690191E-09"
        izz="8.31906059840013E-07" />
    </inertial>
    <visual>
      <origin
        xyz="0 0 0"
        rpy="0 0 0" />
      <geometry>
        <mesh
          filename="package://mars_rover_v8/meshes/Right_middle_wheel_link.STL" />
      </geometry>
      <material
        name="">
        <color
          rgba="0.752941176470588 0.752941176470588 0.752941176470588 1" />
      </material>
    </visual>
    <collision>
      <origin
        xyz="0 0 0"
        rpy="0 0 0" />
      <geometry>
        <mesh
          filename="package://mars_rover_v8/meshes/Right_middle_wheel_link.STL" />
      </geometry>
    </collision>
  </link>
  <joint
    name="Right_middle_wheel_link_joint"
    type="continuous">
    <origin
      xyz="0.120088581134656 -0.113867982924366 0.0630000000000001"
      rpy="3.14159265358979 -0.424525520533463 0.00640960722184122" />
    <parent
      link="RBR_rear" />
    <child
      link="Right_middle_wheel_link" />
    <axis
      xyz="0.411888466175252 0 -0.911234268139537" />
      <dynamics damping="1.0" friction="1.0"/>
  </joint>
  <link
    name="Rear_middle_wheel">
    <inertial>
      <origin
        xyz="-0.00484227143054637 -3.25469512452159E-11 0.0107127158315934"
        rpy="0 0 0" />
      <mass
        value="0.235972140997582" />
      <inertia
        ixx="0.000574669113951944"
        ixy="1.38048742418621E-12"
        ixz="-0.000114457898733194"
        iyy="0.000522932822727717"
        iyz="-3.01519635815039E-12"
        izz="0.000776151796329168" />
    </inertial>
    <visual>
      <origin
        xyz="0 0 0"
        rpy="0 0 0" />
      <geometry>
        <mesh
          filename="package://mars_rover_v8/meshes/Rear_middle_wheel.STL" />
      </geometry>
      <material
        name="">
        <color
          rgba="0.752941176470588 0.752941176470588 0.752941176470588 1" />
      </material>
    </visual>
    <collision>
      <origin
        xyz="0 0 0"
        rpy="0 0 0" />
      <geometry>
        <mesh
          filename="package://mars_rover_v8/meshes/Rear_middle_wheel.STL" />
      </geometry>
    </collision>
  </link>
  <joint
    name="Rear_middle_wheel_joint"
    type="fixed">
    <origin
      xyz="0 0 0"
      rpy="0 0 0" />
    <parent
      link="Right_middle_wheel_link" />
    <child
      link="Rear_middle_wheel" />
    <axis
      xyz="0.411863092610241 -0.018801914266427 -0.91105174439515" />
  </joint>
  <link
    name="RBR_front_link">
    <inertial>
      <origin
        xyz="0.209965064361985 -0.0478417179721644 0.019612021876041"
        rpy="0 0 0" />
      <mass
        value="0.0740403743388685" />
      <inertia
        ixx="3.18548188637426E-05"
        ixy="8.77708436539547E-06"
        ixz="-8.13375964177381E-06"
        iyy="6.97692683566078E-05"
        iyz="3.41765459554196E-06"
        izz="5.88285799800042E-05" />
    </inertial>
    <visual>
      <origin
        xyz="0 0 0"
        rpy="0 0 0" />
      <geometry>
        <mesh
          filename="package://mars_rover_v8/meshes/RBR_front_link.STL" />
      </geometry>
      <material
        name="">
        <color
          rgba="1 1 1 1" />
      </material>
    </visual>
    <collision>
      <origin
        xyz="0 0 0"
        rpy="0 0 0" />
      <geometry>
        <mesh
          filename="package://mars_rover_v8/meshes/RBR_front_link.STL" />
      </geometry>
    </collision>
  </link>
  <joint
    name="RBR_front_linkt_joint"
    type="fixed">
    <origin
      xyz="0 0 0"
      rpy="0 0 0" />
    <parent
      link="Main_RBR_shaft" />
    <child
      link="RBR_front_link" />
    <axis
      xyz="0 0 0" />
  </joint>
  <link
    name="Right_front_wheel_shaft">
    <inertial>
      <origin
        xyz="-0.022448496804478 0.0381089455750167 -0.0462150170605818"
        rpy="0 0 0" />
      <mass
        value="0.232915994994577" />
      <inertia
        ixx="0.000166514722719473"
        ixy="5.61760003454675E-05"
        ixz="-8.58732454008304E-07"
        iyy="0.000102236207341924"
        iyz="5.8370438102259E-06"
        izz="0.000178730933725245" />
    </inertial>
    <visual>
      <origin
        xyz="0 0 0"
        rpy="0 0 0" />
      <geometry>
        <mesh
          filename="package://mars_rover_v8/meshes/Right_front_wheel_shaft.STL" />
      </geometry>
      <material
        name="">
        <color
          rgba="0.752941176470588 0.752941176470588 0.752941176470588 1" />
      </material>
    </visual>
    <collision>
      <origin
        xyz="0 0 0"
        rpy="0 0 0" />
      <geometry>
        <mesh
          filename="package://mars_rover_v8/meshes/Right_front_wheel_shaft.STL" />
      </geometry>
    </collision>
  </link>
  <joint
    name="Right_front_wheel_shaft_joint"
    type="revolute">
    <origin
      xyz="0.232033150163403 -0.088963153619722 0.0249628677160633"
      rpy="-1.37097490593956 -0.505717767944392 -0.0878138371783758" />
    <parent
      link="RBR_front_link" />
    <child
      link="Right_front_wheel_shaft" />
    <axis
      xyz="-0.00294985923430682 0 -0.99999564912549" />
    <limit
      lower="-3.14"
      upper="3.14"
      effort="10"
      velocity="100" />
      <dynamics damping="1.0" friction="1.0"/>
  </joint>
  <link
    name="Right_front_wheel_link">
    <inertial>
      <origin
        xyz="0.00254753967073165 -0.000309236482963202 -0.0139543665789996"
        rpy="0 0 0" />
      <mass
        value="0.00725398032542629" />
      <inertia
        ixx="5.54775023795211E-07"
        ixy="1.43092528498364E-08"
        ixz="-6.74153169038239E-08"
        iyy="5.48818108086666E-07"
        iyz="2.12218616478764E-09"
        izz="8.75526599672433E-07" />
    </inertial>
    <visual>
      <origin
        xyz="0 0 0"
        rpy="0 0 0" />
      <geometry>
        <mesh
          filename="package://mars_rover_v8/meshes/Right_front_wheel_link.STL" />
      </geometry>
      <material
        name="">
        <color
          rgba="0.752941176470588 0.752941176470588 0.752941176470588 1" />
      </material>
    </visual>
    <collision>
      <origin
        xyz="0 0 0"
        rpy="0 0 0" />
      <geometry>
        <mesh
          filename="package://mars_rover_v8/meshes/Right_front_wheel_link.STL" />
      </geometry>
    </collision>
  </link>
  <joint
    name="Right_front_wheel_link_joint"
    type="continuous">
    <origin
      xyz="0.00729082919570312 -0.0123768963816303 -0.0905524791148777"
      rpy="1.59422824475325 0.116637230630436 0.731068414853812" />
    <parent
      link="Right_front_wheel_shaft" />
    <child
      link="Right_front_wheel_link" />
    <axis
      xyz="0.196083662831013 0 -0.980587169593185" />
      <dynamics damping="1.0" friction="1.0"/>
  </joint>
  <link
    name="Right_front_wheel">
    <inertial>
      <origin
        xyz="0.00214093203857663 7.28689983353625E-10 -0.0107065035797874"
        rpy="0 0 0" />
      <mass
        value="0.235972140918487" />
      <inertia
        ixx="0.000534657991546226"
        ixy="5.05623723499968E-12"
        ixz="-5.86359297742129E-05"
        iyy="0.000522932823110295"
        iyz="-2.54580047618296E-11"
        izz="0.000816162919032008" />
    </inertial>
    <visual>
      <origin
        xyz="0 0 0"
        rpy="0 0 0" />
      <geometry>
        <mesh
          filename="package://mars_rover_v8/meshes/Right_front_wheel.STL" />
      </geometry>
      <material
        name="">
        <color
          rgba="0.752941176470588 0.752941176470588 0.752941176470588 1" />
      </material>
    </visual>
    <collision>
      <origin
        xyz="0 0 0"
        rpy="0 0 0" />
      <geometry>
        <mesh
          filename="package://mars_rover_v8/meshes/Right_front_wheel.STL" />
      </geometry>
    </collision>
  </link>
  <joint
    name="Right_front_wheel_joint"
    type="fixed">
    <origin
      xyz="0 0 0"
      rpy="0 0 0" />
    <parent
      link="Right_front_wheel_link" />
    <child
      link="Right_front_wheel" />
    <axis
      xyz="-0.573374677283095 -0.138797386351894 0.807450781777063" />
  </joint>
  <link
    name="Arm_base">
    <inertial>
      <origin
        xyz="-0.0148411799642182 0.00513979068023006 0.00849233477254038"
        rpy="0 0 0" />
      <mass
        value="0.0232103582364868" />
      <inertia
        ixx="1.95534334339789E-05"
        ixy="5.5258265426851E-08"
        ixz="5.40978258405581E-09"
        iyy="1.9473715923075E-05"
        iyz="-1.08581050378252E-08"
        izz="1.34195686136076E-05" />
    </inertial>
    <visual>
      <origin
        xyz="0 0 0"
        rpy="0 0 0" />
      <geometry>
        <mesh
          filename="package://mars_rover_v8/meshes/Arm_base.STL" />
      </geometry>
      <material
        name="">
        <color
          rgba="0.792156862745098 0.819607843137255 0.933333333333333 1" />
      </material>
    </visual>
    <collision>
      <origin
        xyz="0 0 0"
        rpy="0 0 0" />
      <geometry>
        <mesh
          filename="package://mars_rover_v8/meshes/Arm_base.STL" />
      </geometry>
    </collision>
  </link>
  <joint
    name="Arm_base_joint"
    type="revolute">
    <origin
      xyz="0.246564015739666 -0.00508471654694997 0.346052237901634"
      rpy="0 0 -0.000171498859619441" />
    <parent
      link="Rover_body" />
    <child
      link="Arm_base" />
    <axis
      xyz="0 0 1" />
    <limit
      lower="-1.25"
      upper="0.25"
      effort="10"
      velocity="1000" />
      <dynamics damping="1.0" friction="1.0"/>
  </joint>
  <link
    name="Arm_base2">
    <inertial>
      <origin
        xyz="-0.0150559555045656 0.00504243102485956 0.0465115492607505"
        rpy="0 0 0" />
      <mass
        value="0.0831040109788547" />
      <inertia
        ixx="4.60526006657726E-05"
        ixy="8.35430769810964E-21"
        ixz="7.17059146252918E-21"
        iyy="4.60526006657725E-05"
        iyz="2.63039153409463E-21"
        izz="6.95090782864064E-05" />
    </inertial>
    <visual>
      <origin
        xyz="0 0 0"
        rpy="0 0 0" />
      <geometry>
        <mesh
          filename="package://mars_rover_v8/meshes/Arm_base2.STL" />
      </geometry>
      <material
        name="">
        <color
          rgba="1 1 1 1" />
      </material>
    </visual>
    <collision>
      <origin
        xyz="0 0 0"
        rpy="0 0 0" />
      <geometry>
        <mesh
          filename="package://mars_rover_v8/meshes/Arm_base2.STL" />
      </geometry>
    </collision>
  </link>
  <joint
    name="Arm_base2_joint"
    type="fixed">
    <origin
      xyz="0 0 0"
      rpy="0 0 0" />
    <parent
      link="Arm_base" />
    <child
      link="Arm_base2" />
    <axis
      xyz="0 0 0" />
  </joint>
  <link
    name="Arm_link1">
    <inertial>
      <origin
        xyz="-0.000198870707785098 2.17764732455689E-05 0.0542205046374554"
        rpy="0 0 0" />
      <mass
        value="1.17715491787185" />
      <inertia
        ixx="0.00149566117048205"
        ixy="-1.14408893577745E-05"
        ixz="-2.38607146559717E-09"
        iyy="0.00139122143440578"
        iyz="-7.70569549325806E-10"
        izz="0.000580577884164837" />
    </inertial>
    <visual>
      <origin
        xyz="0 0 0"
        rpy="0 0 0" />
      <geometry>
        <mesh
          filename="package://mars_rover_v8/meshes/Arm_link1.STL" />
      </geometry>
      <material
        name="">
        <color
          rgba="0.6 0.6 0.6 1" />
      </material>
    </visual>
    <collision>
      <origin
        xyz="0 0 0"
        rpy="0 0 0" />
      <geometry>
        <mesh
          filename="package://mars_rover_v8/meshes/Arm_link1.STL" />
      </geometry>
    </collision>
  </link>
  <joint
    name="Arm_link1_joint"
    type="fixed">
    <origin
      xyz="-0.0150560289785289 0.00504237928468466 0.111426422730127"
      rpy="0 0 1.5707963267949" />
    <parent
      link="Arm_base2" />
    <child
      link="Arm_link1" />
    <axis
      xyz="0 0 0" />
  </joint>
  <link
    name="Arm_link2">
    <inertial>
      <origin
        xyz="-0.00366205828125533 0.061988701777348 -5.84840138262432E-08"
        rpy="0 0 0" />
      <mass
        value="0.726851554166845" />
      <inertia
        ixx="0.00278764657763794"
        ixy="0.000151701020942583"
        ixz="-3.74959464464943E-10"
        iyy="0.000228387594610631"
        iyz="-1.505400866191E-10"
        izz="0.00278286795091919" />
    </inertial>
    <visual>
      <origin
        xyz="0 0 0"
        rpy="0 0 0" />
      <geometry>
        <mesh
          filename="package://mars_rover_v8/meshes/Arm_link2.STL" />
      </geometry>
      <material
        name="">
        <color
          rgba="0.6 0.6 0.6 1" />
      </material>
    </visual>
    <collision>
      <origin
        xyz="0 0 0"
        rpy="0 0 0" />
      <geometry>
        <mesh
          filename="package://mars_rover_v8/meshes/Arm_link2.STL" />
      </geometry>
    </collision>
  </link>
  <joint
    name="Arm_link2_joint"
    type="revolute">
    <origin
      xyz="0.0625642335830836 -0.00642926901750175 0.0605176899996075"
      rpy="1.5707963267949 0 1.46291321716714" />
    <parent
      link="Arm_link1" />
    <child
      link="Arm_link2" />
    <axis
      xyz="0 0 -1" />
    <limit
      lower="-2.75"
      upper="1.725"
      effort="10"
      velocity="1000" />
      <dynamics damping="1.0" friction="1.0"/>
  </joint>
  <link
    name="Arm_link3">
    <inertial>
      <origin
        xyz="0.000165500891682907 3.13668146730423E-05 -0.0066040257148271"
        rpy="0 0 0" />
      <mass
        value="0.601598112953303" />
      <inertia
        ixx="0.00116811789081315"
        ixy="5.74958844827927E-07"
        ixz="7.18396649352535E-07"
        iyy="0.00116519349842926"
        iyz="1.90506856782321E-07"
        izz="0.000409953538663675" />
    </inertial>
    <visual>
      <origin
        xyz="0 0 0"
        rpy="0 0 0" />
      <geometry>
        <mesh
          filename="package://mars_rover_v8/meshes/Arm_link3.STL" />
      </geometry>
      <material
        name="">
        <color
          rgba="0.686274509803922 0.658823529411765 0.63921568627451 1" />
      </material>
    </visual>
    <collision>
      <origin
        xyz="0 0 0"
        rpy="0 0 0" />
      <geometry>
        <mesh
          filename="package://mars_rover_v8/meshes/Arm_link3.STL" />
      </geometry>
    </collision>
  </link>
  <joint
    name="Arm_link3_joint"
    type="fixed">
    <origin
      xyz="-0.0147322442377674 0.247644449205892 -0.000340421304941302"
      rpy="-1.5707963267949 -1.46309949588283 0.0590019020044591" />
    <parent
      link="Arm_link2" />
    <child
      link="Arm_link3" />
    <axis
      xyz="-0.101366846595857 0.116708252977962 0.987979729598763" />
    <limit
      lower="0"
      upper="0"
      effort="0"
      velocity="0" />
      <dynamics damping="1.0" friction="1.0"/>
  </joint>
  <link
    name="Arm_link4">
    <inertial>
      <origin
        xyz="-3.33066907387547E-16 1.38777878078145E-17 -0.010042610343672"
        rpy="0 0 0" />
      <mass
        value="0.242640656011816" />
      <inertia
        ixx="0.000371978079333012"
        ixy="1.6940658945086E-20"
        ixz="-4.49986253228847E-21"
        iyy="0.000371978079333012"
        iyz="-2.92226366802734E-20"
        izz="9.98978057819488E-05" />
    </inertial>
    <visual>
      <origin
        xyz="0 0 0"
        rpy="0 0 0" />
      <geometry>
        <mesh
          filename="package://mars_rover_v8/meshes/Arm_link4.STL" />
      </geometry>
      <material
        name="">
        <color
          rgba="0.6 0.6 0.6 1" />
      </material>
    </visual>
    <collision>
      <origin
        xyz="0 0 0"
        rpy="0 0 0" />
      <geometry>
        <mesh
          filename="package://mars_rover_v8/meshes/Arm_link4.STL" />
      </geometry>
    </collision>
  </link>
  <joint
    name="Arm_link4_joint"
    type="prismatic">
    <origin
      xyz="0.000349494648019921 6.62403289212188E-05 0.0303927382056502"
      rpy="0 0 -0.107696830912061" />
    <parent
      link="Arm_link3" />
    <child
      link="Arm_link4" />
    <axis
      xyz="0 0 -1" />
    <limit
      lower="-0.09"
      upper="0.02"
      effort="10"
      velocity="100" />
      <dynamics damping="1.0" friction="1.0"/>
  </joint>
  <link
    name="End_effector">
    <inertial>
      <origin
        xyz="2.77555756156289E-17 1.38777878078145E-17 -0.00442500000000001"
        rpy="0 0 0" />
      <mass
        value="0.050219340315337" />
      <inertia
        ixx="2.3004946217965E-05"
        ixy="-1.52780259138544E-21"
        ixz="-2.80724420385184E-23"
        iyy="2.3004946217965E-05"
        iyz="4.2351647362715E-22"
        izz="4.53543417222887E-05" />
    </inertial>
    <visual>
      <origin
        xyz="0 0 0"
        rpy="0 0 0" />
      <geometry>
        <mesh
          filename="package://mars_rover_v8/meshes/End_effector.STL" />
      </geometry>
      <material
        name="">
        <color
          rgba="0.968627450980392 0.87843137254902 0.6 1" />
      </material>
    </visual>
    <collision>
      <origin
        xyz="0 0 0"
        rpy="0 0 0" />
      <geometry>
        <mesh
          filename="package://mars_rover_v8/meshes/End_effector.STL" />
      </geometry>
    </collision>
  </link>
  <joint
    name="End_effector_joint"
    type="continuous">
    <origin
      xyz="0 0 0.080538931549256"
      rpy="0 0 0.107696830912061" />
    <parent
      link="Arm_link4" />
    <child
      link="End_effector" />
    <axis
      xyz="0 0 1" />
      <dynamics damping="1.0" friction="1.0"/>
  </joint>
  <link
    name="Drill_tool">
    <inertial>
      <origin
        xyz="-2.53988950982276E-07 -2.89834425724889E-06 0.098106643016324"
        rpy="0 0 0" />
      <mass
        value="0.0369054673613966" />
      <inertia
        ixx="2.92110406918595E-05"
        ixy="4.93253783748112E-10"
        ixz="-7.31061448430268E-10"
        iyy="2.92152160276101E-05"
        iyz="-4.38438515383908E-10"
        izz="9.32227933750998E-07" />
    </inertial>
    <visual>
      <origin
        xyz="0 0 0"
        rpy="0 0 0" />
      <geometry>
        <mesh
          filename="package://mars_rover_v8/meshes/Drill_tool.STL" />
      </geometry>
      <material
        name="">
        <color
          rgba="0.776470588235294 0.756862745098039 0.737254901960784 1" />
      </material>
    </visual>
    <collision>
      <origin
        xyz="0 0 0"
        rpy="0 0 0" />
      <geometry>
        <mesh
          filename="package://mars_rover_v8/meshes/Drill_tool.STL" />
      </geometry>
    </collision>
  </link>
  <joint
    name="Drill_tool_joint"
    type="fixed">
    <origin
      xyz="0 0 0"
      rpy="0 0 0" />
    <parent
      link="End_effector" />
    <child
      link="Drill_tool" />
    <axis
      xyz="0 0 1" />
  </joint>

  
  <!--camera-->
  <link name='camera'>
     <visual name ='camera_visual'>
	<geometry>
	   <box size="0.005 0.025 0.025"/>
	</geometry>
     </visual>

    <inertial>
      	  <mass value="0.0001"/>
          <origin xyz="0 0 0" rpy=" 0 0 0"/>
	  <box_inertia m="0.1" x="0.005" y="0.025" z="0.025" />
          <inertia
            ixx="1e-6" ixy="0" ixz="0"
            iyy="1e-6" iyz="0"
            izz="1e-6"
          />
     </inertial>

     <collision name='collision'>
           <origin xyz="0 0 0" rpy=" 0 0 0"/> 
           <geometry>
             <box size="0.005 0.025 0.025"/>
           </geometry>
     </collision>
  </link>

<gazebo reference="camera">
    <material>Gazebo/Green</material>
</gazebo>

  <joint type="fixed" name="camera_joint">
    <origin xyz="0.260 0 0.45" rpy="0 0 -0.1"/>
    <child link="camera"/>
    <parent link="Rover_body"/>
    <axis xyz="0 0 0" rpy="0 0 0"/>
    <limit effort="10000" velocity="1000"/>
    <dynamics damping="1.0" friction="1.0"/>
  </joint>

  <gazebo reference="camera">
    <sensor type="camera" name="camera1">
      <update_rate>30.0</update_rate>
      <camera name="head">
        <horizontal_fov>1.3962634</horizontal_fov>
        <image>
          <width>800</width>
          <height>800</height>
          <format>R8G8B8</format>
        </image>
        <clip>
          <near>0.02</near>
          <far>300</far>
        </clip>
      </camera>
      <plugin name="camera_controller" filename="libgazebo_ros_camera.so">
        <alwaysOn>true</alwaysOn>
        <updateRate>0.0</updateRate>
        <cameraName>camera</cameraName>
        <imageTopicName>rgb/image_raw</imageTopicName>
        <cameraInfoTopicName>rgb/camera_info</cameraInfoTopicName>
        <frameName>camera</frameName>
        <hackBaseline>0.07</hackBaseline>
        <distortionK1>0.0</distortionK1>
        <distortionK2>0.0</distortionK2>
        <distortionK3>0.0</distortionK3>
        <distortionT1>0.0</distortionT1>
        <distortionT2>0.0</distortionT2>
      </plugin>
    </sensor>
  </gazebo>
  
  <transmission name="Main_RBL_shaft_joint_motor">
  <type>transmission_interface/SimpleTransmission</type>
  <joint name="Main_RBL_shaft_joint">
    <hardwareInterface>hardware_interface/EffortJointInterface</hardwareInterface>
  </joint>
  <actuator name="Main_RBL_shaft_joint_motor">
    <mechanicalReduction>1</mechanicalReduction>
    <hardwareInterface>hardware_interface/EffortJointInterface</hardwareInterface>
  </actuator>
  </transmission>

  <transmission name="Main_RBR_shaft_joint_motor">
  <type>transmission_interface/SimpleTransmission</type>
  <joint name="Main_RBR_shaft_joint">
    <hardwareInterface>hardware_interface/EffortJointInterface</hardwareInterface>
  </joint>
  <actuator name="Main_RBR_shaft_joint_motor">
    <mechanicalReduction>1</mechanicalReduction>
    <hardwareInterface>hardware_interface/EffortJointInterface</hardwareInterface>
  </actuator>
  </transmission>

  <transmission name="RBL_sub_joint_motor">
  <type>transmission_interface/SimpleTransmission</type>
  <joint name="RBL_sub_joint">
    <hardwareInterface>hardware_interface/EffortJointInterface</hardwareInterface>
  </joint>
  <actuator name="RBL_sub_joint_motor">
    <mechanicalReduction>1</mechanicalReduction>
    <hardwareInterface>hardware_interface/EffortJointInterface</hardwareInterface>
  </actuator>
  </transmission>


  
  <transmission name="RBR_sub_joint_motor">
  <type>transmission_interface/SimpleTransmission</type>
  <joint name="RBR_sub_joint">
    <hardwareInterface>hardware_interface/EffortJointInterface</hardwareInterface>
  </joint>
  <actuator name="RBR_sub_joint_motor">
    <mechanicalReduction>1</mechanicalReduction>
    <hardwareInterface>hardware_interface/EffortJointInterface</hardwareInterface>
  </actuator>
  </transmission>


  <transmission name="Left_rear_wheel_shaft_joint_motor">
  <type>transmission_interface/SimpleTransmission</type>
  <joint name="Left_rear_wheel_shaft_joint">
    <hardwareInterface>hardware_interface/EffortJointInterface</hardwareInterface>
  </joint>
  <actuator name="Left_rear_wheel_shaft_joint_motor">
    <mechanicalReduction>1</mechanicalReduction>
    <hardwareInterface>hardware_interface/EffortJointInterface</hardwareInterface>
  </actuator>
  </transmission>

  <transmission name="Right_rear_wheel_shaft_joint_motor">
  <type>transmission_interface/SimpleTransmission</type>
  <joint name="Right_rear_wheel_shaft_joint">
    <hardwareInterface>hardware_interface/EffortJointInterface</hardwareInterface>
  </joint>
  <actuator name="Right_rear_wheel_shaft_joint_motor">
    <mechanicalReduction>1</mechanicalReduction>
    <hardwareInterface>hardware_interface/EffortJointInterface</hardwareInterface>
  </actuator>
  </transmission>

  <transmission name="Left_front_wheel_shaft_joint_motor">
  <type>transmission_interface/SimpleTransmission</type>
  <joint name="Left_front_wheel_shaft_joint">
    <hardwareInterface>hardware_interface/EffortJointInterface</hardwareInterface>
  </joint>
  <actuator name="Left_front_wheel_shaft_joint_motor">
    <mechanicalReduction>1</mechanicalReduction>
    <hardwareInterface>hardware_interface/EffortJointInterface</hardwareInterface>
  </actuator>
  </transmission>


  <transmission name="Right_front_wheel_shaft_joint_motor">
  <type>transmission_interface/SimpleTransmission</type>
  <joint name="Right_front_wheel_shaft_joint">
    <hardwareInterface>hardware_interface/EffortJointInterface</hardwareInterface>
  </joint>
  <actuator name="Right_front_wheel_shaft_joint_motor">
    <mechanicalReduction>1</mechanicalReduction>
    <hardwareInterface>hardware_interface/EffortJointInterface</hardwareInterface>
  </actuator>
  </transmission>

  
  <transmission name="Arm_base_joint_motor">
  <type>transmission_interface/SimpleTransmission</type>
  <joint name="Arm_base_joint">
    <hardwareInterface>hardware_interface/EffortJointInterface</hardwareInterface>
  </joint>
  <actuator name="Arm_base_joint_motor">
    <mechanicalReduction>1</mechanicalReduction>
    <hardwareInterface>hardware_interface/EffortJointInterface</hardwareInterface>
  </actuator>
  </transmission>


  <transmission name="Arm_link2_joint_motor">
  <type>transmission_interface/SimpleTransmission</type>
  <joint name="Arm_link2_joint">
    <hardwareInterface>hardware_interface/EffortJointInterface</hardwareInterface>
  </joint>
  <actuator name="Arm_link2_joint_motor">
    <mechanicalReduction>1</mechanicalReduction>
    <hardwareInterface>hardware_interface/EffortJointInterface</hardwareInterface>
  </actuator>
  </transmission>

  <!-- <transmission name="Arm_link3_joint_motor">
  <type>transmission_interface/SimpleTransmission</type>
  <joint name="Arm_link3_joint">
    <hardwareInterface>hardware_interface/EffortJointInterface</hardwareInterface>
  </joint>
  <actuator name="Arm_link3_joint_motor">
    <mechanicalReduction>1</mechanicalReduction>
    <hardwareInterface>hardware_interface/EffectJointInterface</hardwareInterface>
  </actuator>
  </transmission> -->

  <transmission name="Arm_link4_joint_motor">
  <type>transmission_interface/SimpleTransmission</type>
  <joint name="Arm_link4_joint">
    <hardwareInterface>hardware_interface/EffortJointInterface</hardwareInterface>
  </joint>
  <actuator name="Arm_link4_joint_motor">
    <mechanicalReduction>1</mechanicalReduction>
    <hardwareInterface>hardware_interface/EffortJointInterface</hardwareInterface>
  </actuator>
  </transmission>

  <transmission name="End_effector_joint_motor">
  <type>transmission_interface/SimpleTransmission</type>
  <joint name="End_effector_joint">
    <hardwareInterface>hardware_interface/VelocityJointInterface</hardwareInterface>
  </joint>
  <actuator name="End_effector_joint_motor">
    <mechanicalReduction>1</mechanicalReduction>
    <hardwareInterface>hardware_interface/VelocityJointInterface</hardwareInterface>
  </actuator>
  </transmission>

  <transmission name="Left_rear_wheel_link_joint_motor">
  <type>transmission_interface/SimpleTransmission</type>
  <joint name="Left_rear_wheel_link_joint">
    <hardwareInterface>hardware_interface/VelocityJointInterface</hardwareInterface>
  </joint>
  <actuator name="Left_rear_wheel_link_joint_motor">
    <mechanicalReduction>1</mechanicalReduction>
    <hardwareInterface>hardware_interface/VelocityJointInterface</hardwareInterface>
  </actuator>
  </transmission>

  <transmission name="Left_middle_wheel_link_joint_motor">
  <type>transmission_interface/SimpleTransmission</type>
  <joint name="Left_middle_wheel_link_joint">
    <hardwareInterface>hardware_interface/VelocityJointInterface</hardwareInterface>
  </joint>
  <actuator name="Left_middle_wheel_link_joint_motor">
    <mechanicalReduction>1</mechanicalReduction>
    <hardwareInterface>hardware_interface/VelocityJointInterface</hardwareInterface>
  </actuator>
  </transmission>

  <transmission name="Left_front_wheel_link_joint_motor">
  <type>transmission_interface/SimpleTransmission</type>
  <joint name="Left_front_wheel_link_joint">
    <hardwareInterface>hardware_interface/VelocityJointInterface</hardwareInterface>
  </joint>
  <actuator name="Left_front_wheel_link_joint">
    <mechanicalReduction>1</mechanicalReduction>
    <hardwareInterface>hardware_interface/VelocityJointInterface</hardwareInterface>
  </actuator>
  </transmission>

  <transmission name="Right_rear_wheel_link_joint_motor">
  <type>transmission_interface/SimpleTransmission</type>
  <joint name="Right_rear_wheel_link_joint">
    <hardwareInterface>hardware_interface/VelocityJointInterface</hardwareInterface>
  </joint>
  <actuator name="Right_rear_wheel_link_joint_motor">
    <mechanicalReduction>1</mechanicalReduction>
    <hardwareInterface>hardware_interface/VelocityJointInterface</hardwareInterface>
  </actuator>
  </transmission>

  <transmission name="Right_front_wheel_link_joint_motor">
  <type>transmission_interface/SimpleTransmission</type>
  <joint name="Right_front_wheel_link_joint">
    <hardwareInterface>hardware_interface/VelocityJointInterface</hardwareInterface>
  </joint>
  <actuator name="Right_front_wheel_link_joint_motor">
    <mechanicalReduction>1</mechanicalReduction>
    <hardwareInterface>hardware_interface/VelocityJointInterface</hardwareInterface>
  </actuator>
  </transmission>

  <transmission name="Right_middle_wheel_link_joint_motor">
  <type>transmission_interface/SimpleTransmission</type>
  <joint name="Right_middle_wheel_link_joint">
    <hardwareInterface>hardware_interface/VelocityJointInterface</hardwareInterface>
  </joint>
  <actuator name="Right_middle_wheel_link_joint_motor">
    <mechanicalReduction>1</mechanicalReduction>
    <hardwareInterface>hardware_interface/VelocityJointInterface</hardwareInterface>
  </actuator>
  </transmission>

<!--  Gazebo plugin for control here -->
	<gazebo>
		<plugin name="gazebo_ros_control" filename="libgazebo_ros_control.so">
			<robotNamespace>/mars_rover_v8</robotNamespace>
			<robotSimType>gazebo_ros_control/DefaultRobotHWSim</robotSimType>
			<legacyModeNS>true</legacyModeNS>
		</plugin>
	</gazebo>

</robot>
